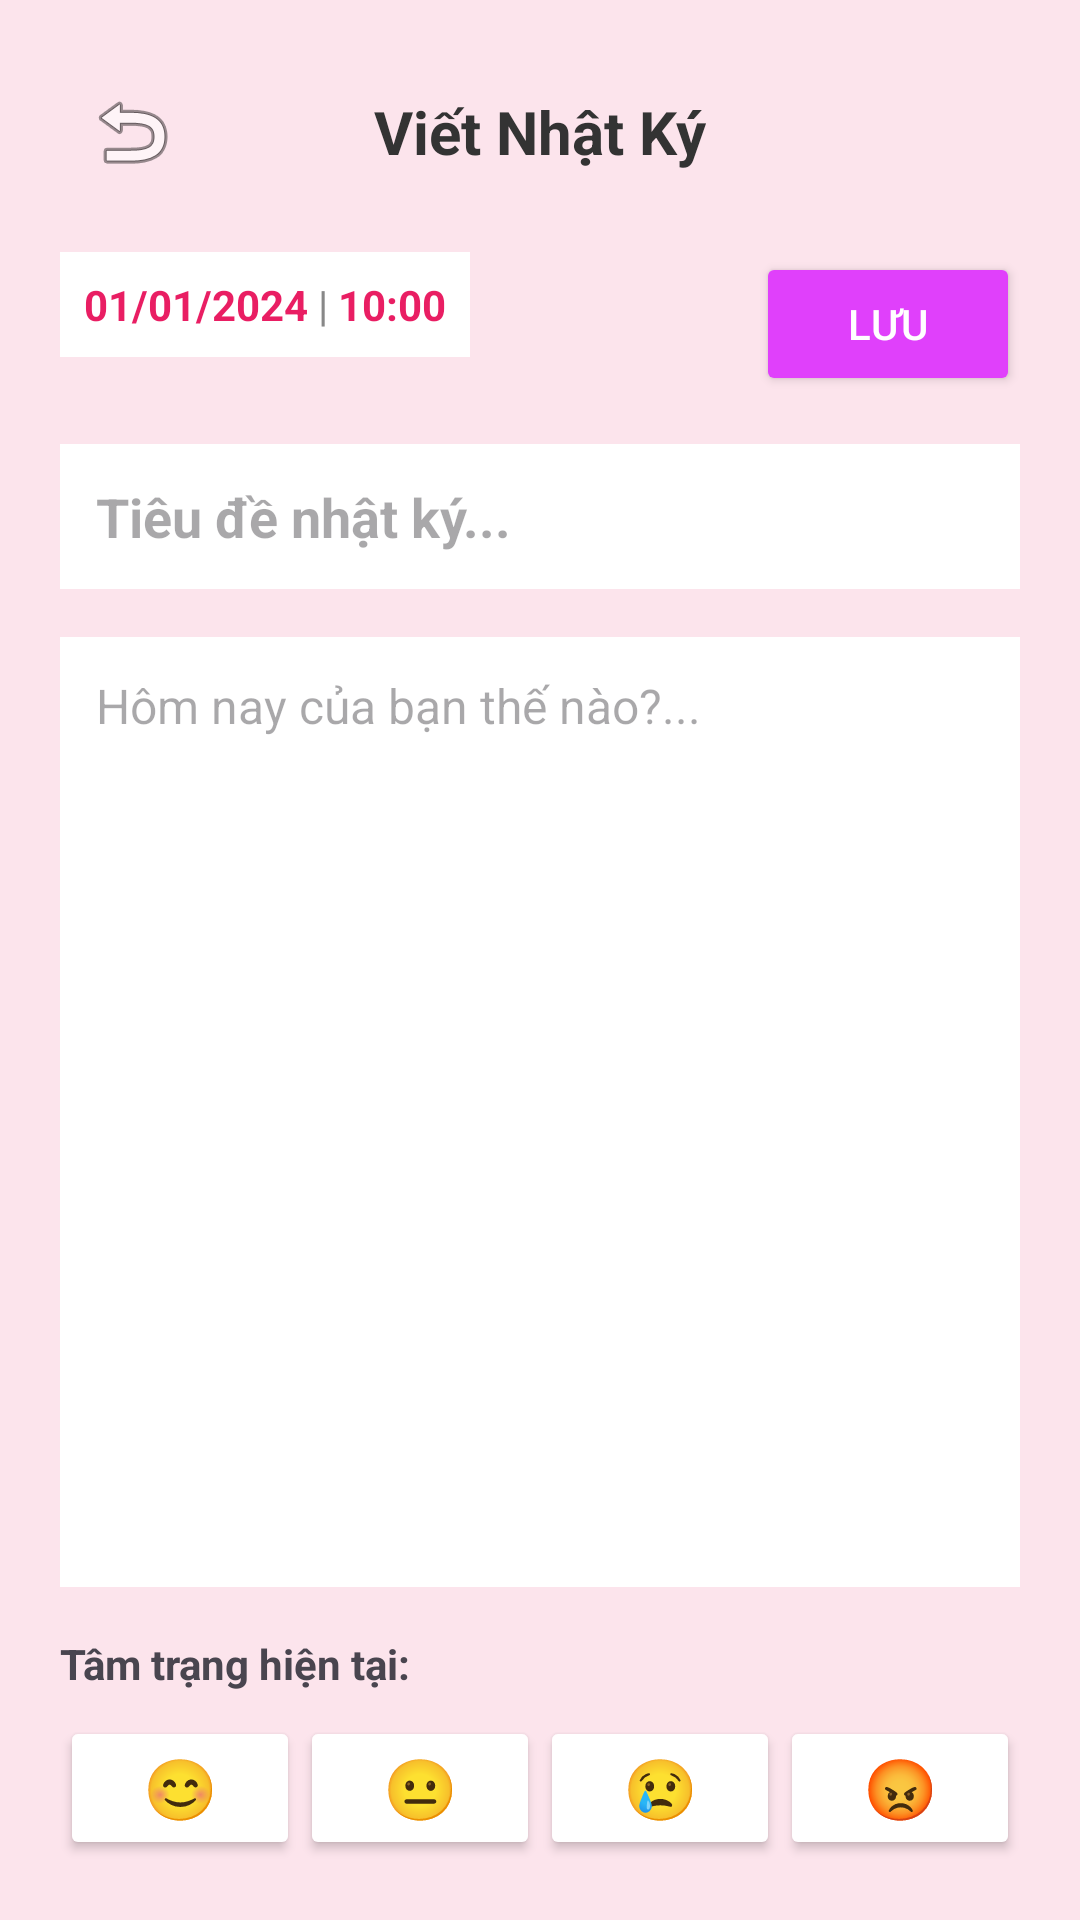

Icon click points for this 1080px×1920px phone screenshot, format (x,y):
Quay lại: (133,132)
